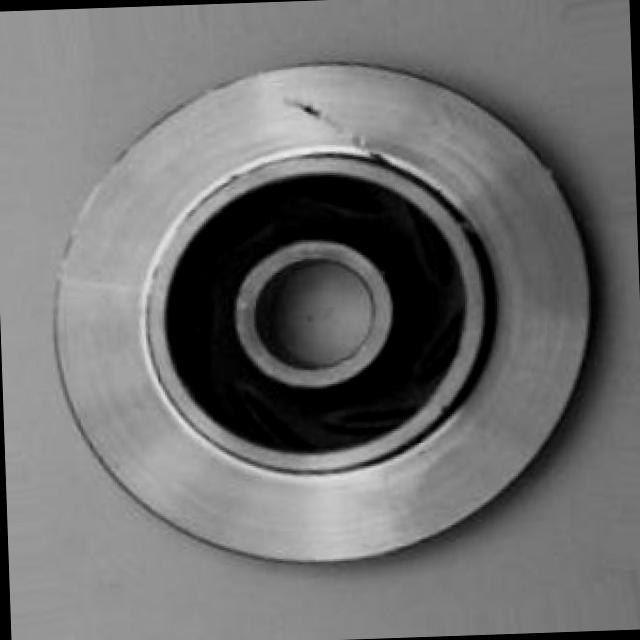Defect: (267, 76, 449, 178)
